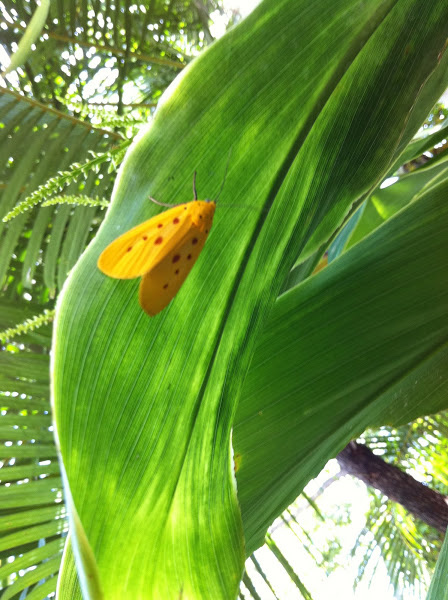Agape chloropyga: (91, 142, 258, 318)
moth: (89, 140, 256, 316)
